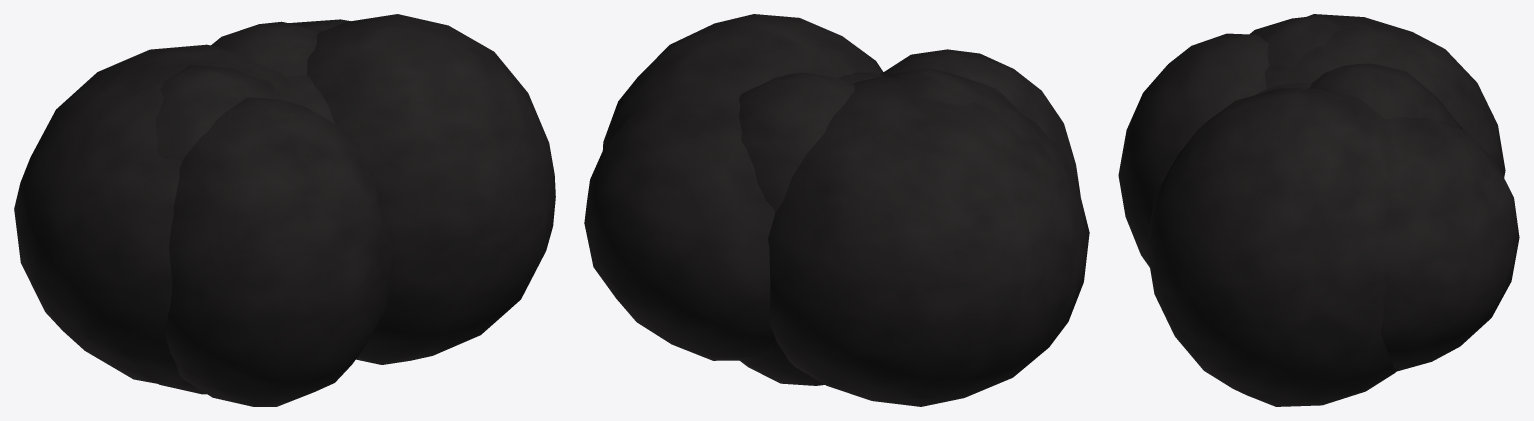
File: pv_hromada_uhli.glb
3 views of the same model, side by side, from view 1: azimuth 30°, elevation 25°; view 2: azimuth 150°, elevation 25°; view 3: azimuth 270°, elevation 25° (orthographic). The views are drawn at different scales.
Visible parts, largest first — view 1: dum; view 2: dum; view 3: dum.
Boxes of the visible parts, x1,y1,x2,y2 form: dum: (14,14,555,406); dum: (584,14,1089,406); dum: (1118,14,1519,406).
Size of the model in its own units: 11.64 by 7.56 by 9.21.
1 material, 1 textured.
